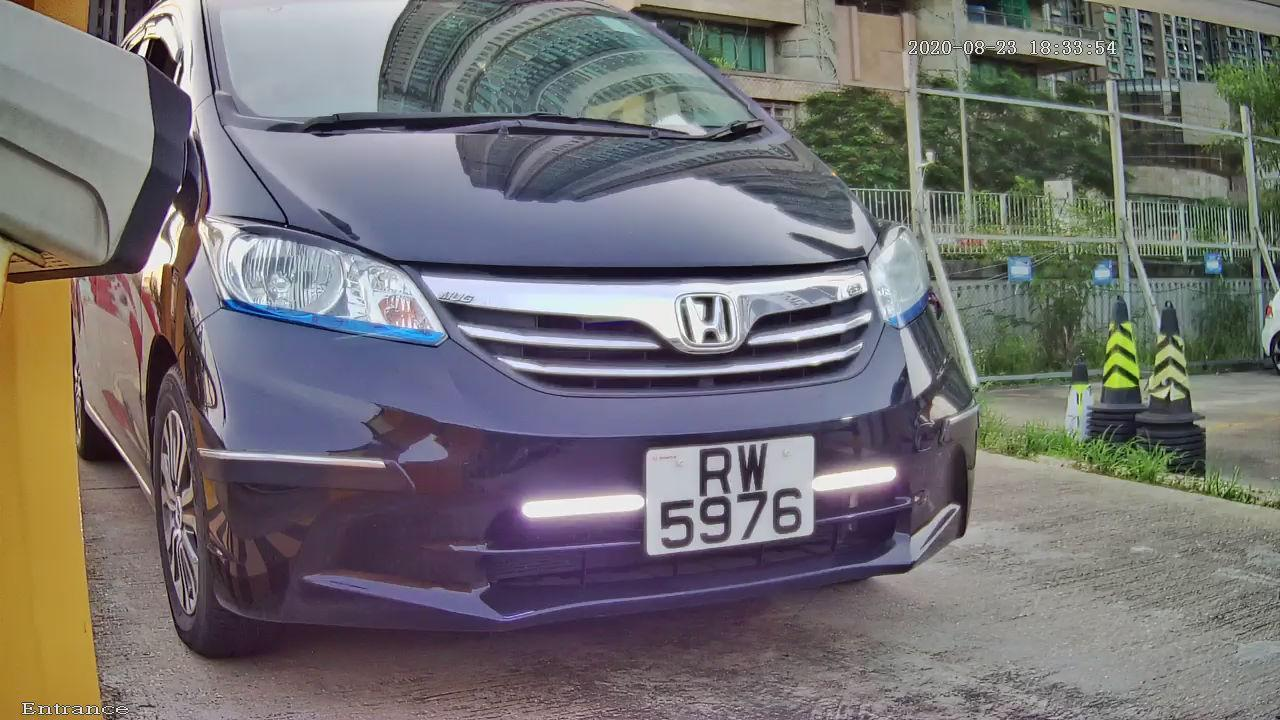Car: (35, 4, 1086, 676)
License Plate: (590, 387, 860, 600)
